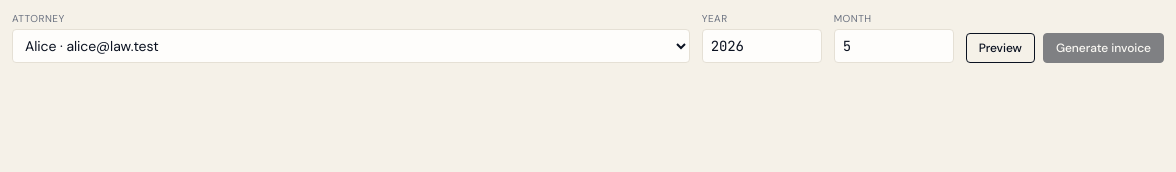
Test: AdminInvoicePanel — preview flow › renders 'no eligible cases' message after Preview returns empty
Click the button "Preview". click: (1000, 48)
box: left=966, top=33, right=1035, bottom=63
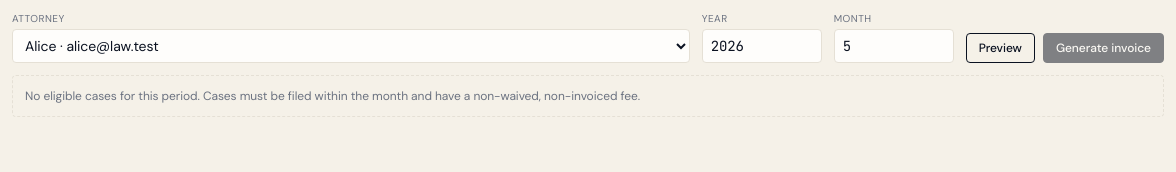
Check: the button "Generate invoice" is disabled, box left=1043, top=33, right=1164, bottom=63
Check: the text "No eligible cases" is shown, box left=25, top=88, right=640, bottom=104
